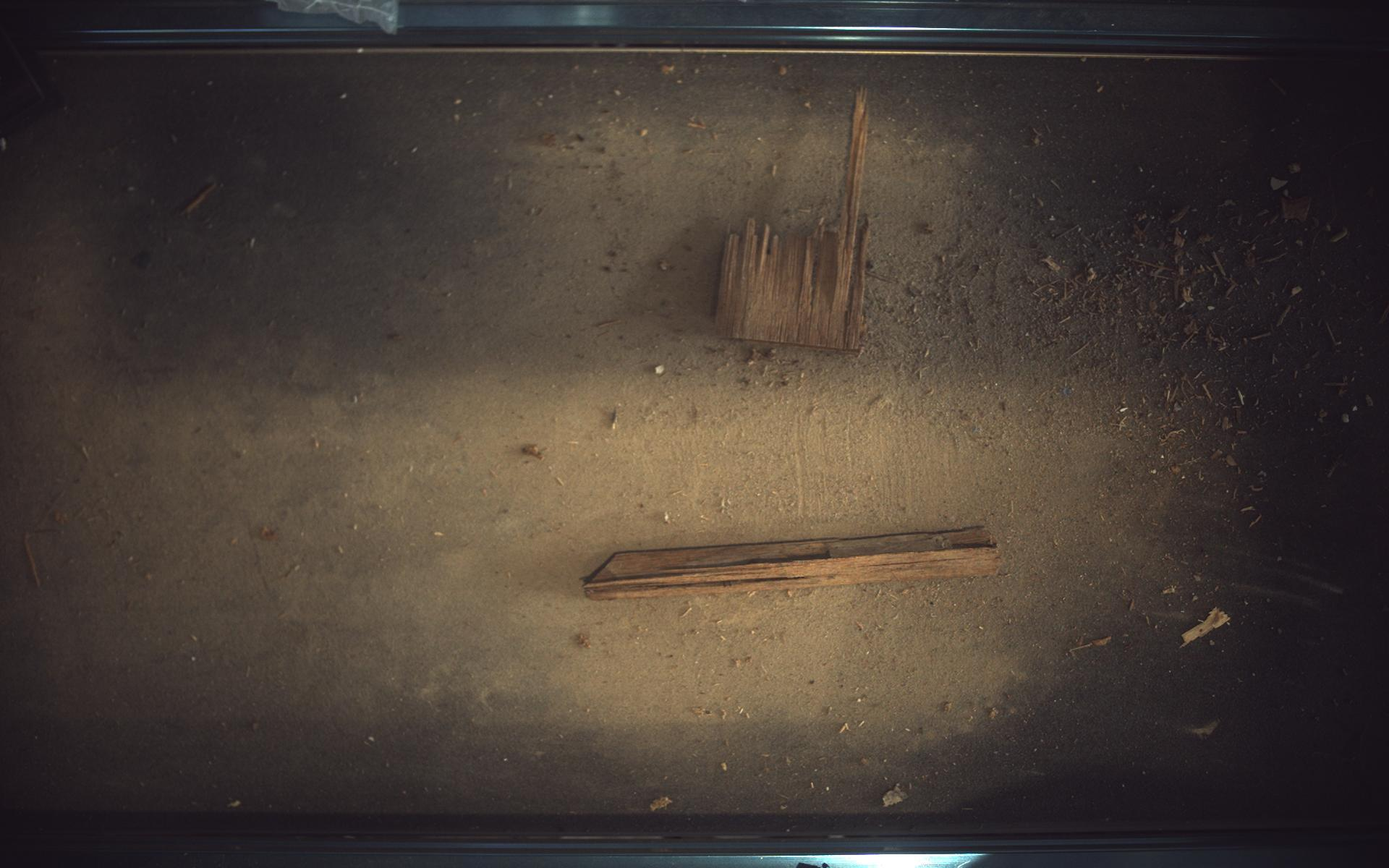wood: (717, 88, 871, 352), (584, 527, 1003, 600)
